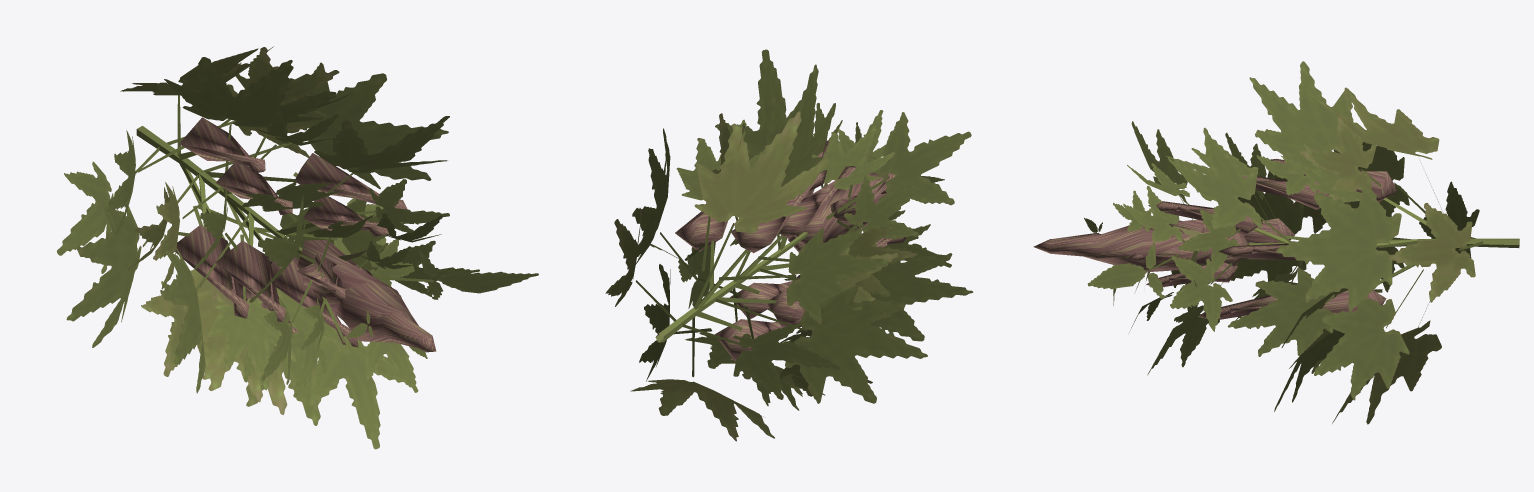
Rendered from p_purple_tree_ripe_c1_cards.obj.
The picture shows the model from 3 angles, left to right: view 1: azimuth 30°, elevation 25°; view 2: azimuth 150°, elevation 25°; view 3: azimuth 270°, elevation 25°; orthographic projection. The views are drawn at different scales.
Size of the model in its own units: 1.5 by 1.6 by 1.81.
Materials: 1 (1 with a texture image).
